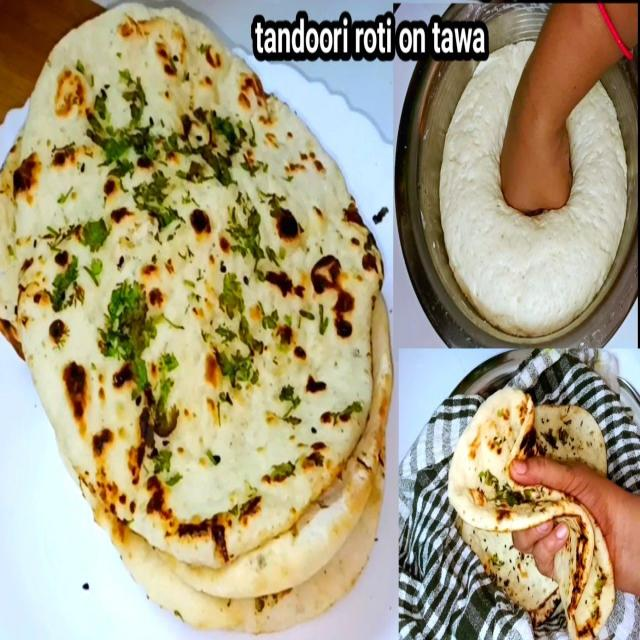ROTI: (0, 4, 389, 638), (451, 395, 611, 626), (543, 407, 612, 465)
